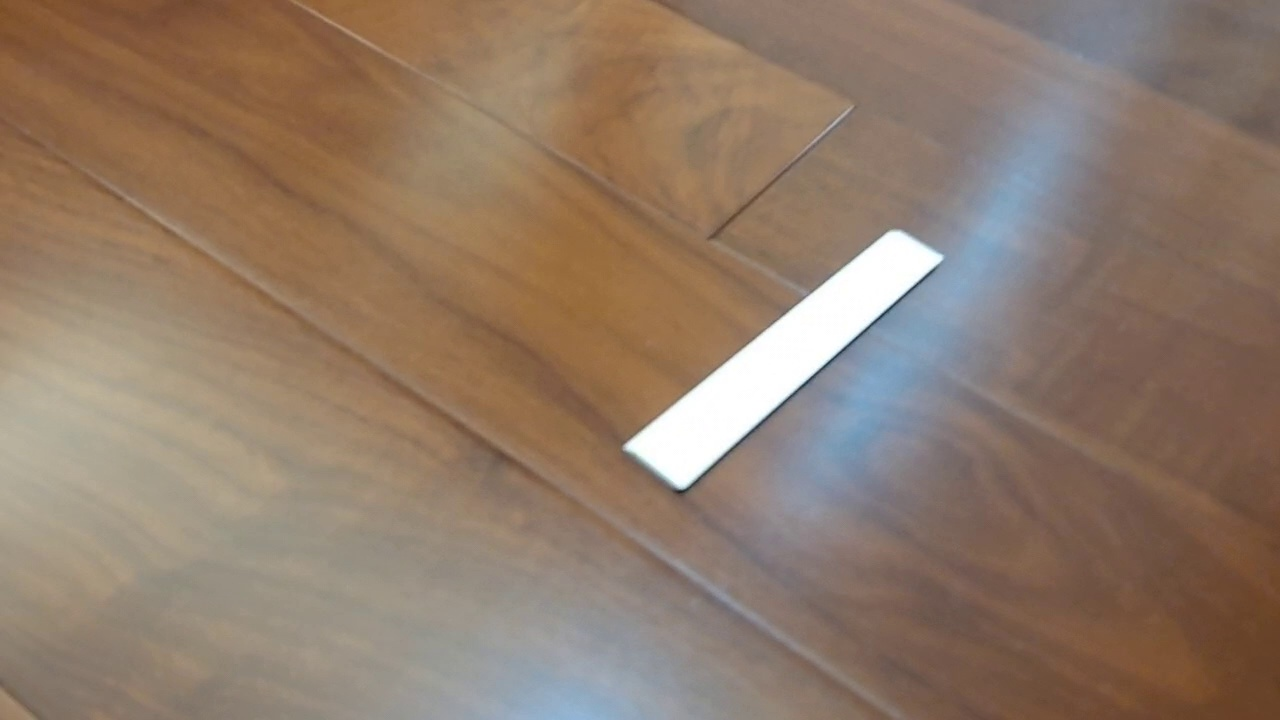ruler: (619, 227, 947, 494)
